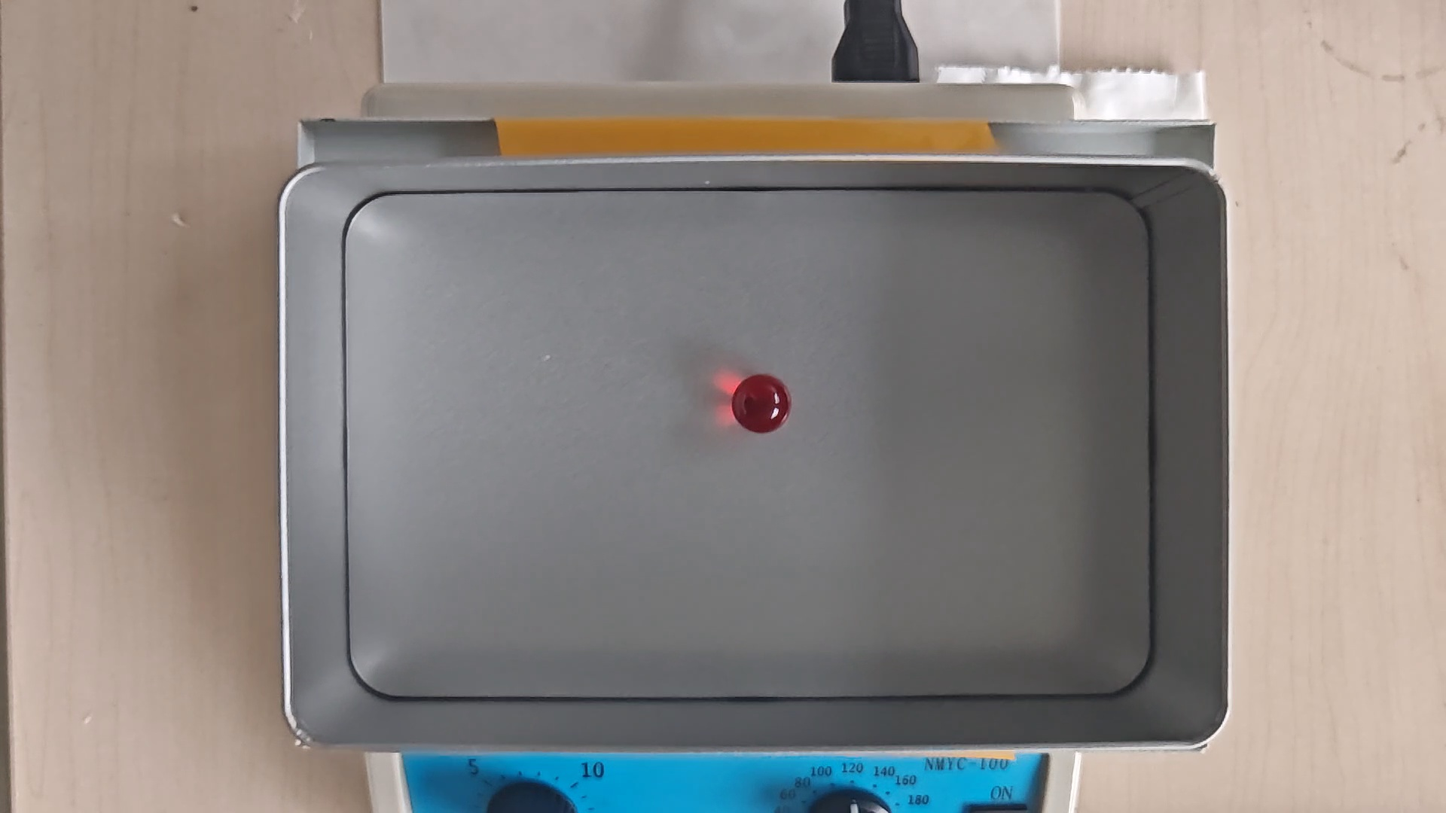ball: (731, 374, 788, 432)
container: (343, 193, 1150, 697)
